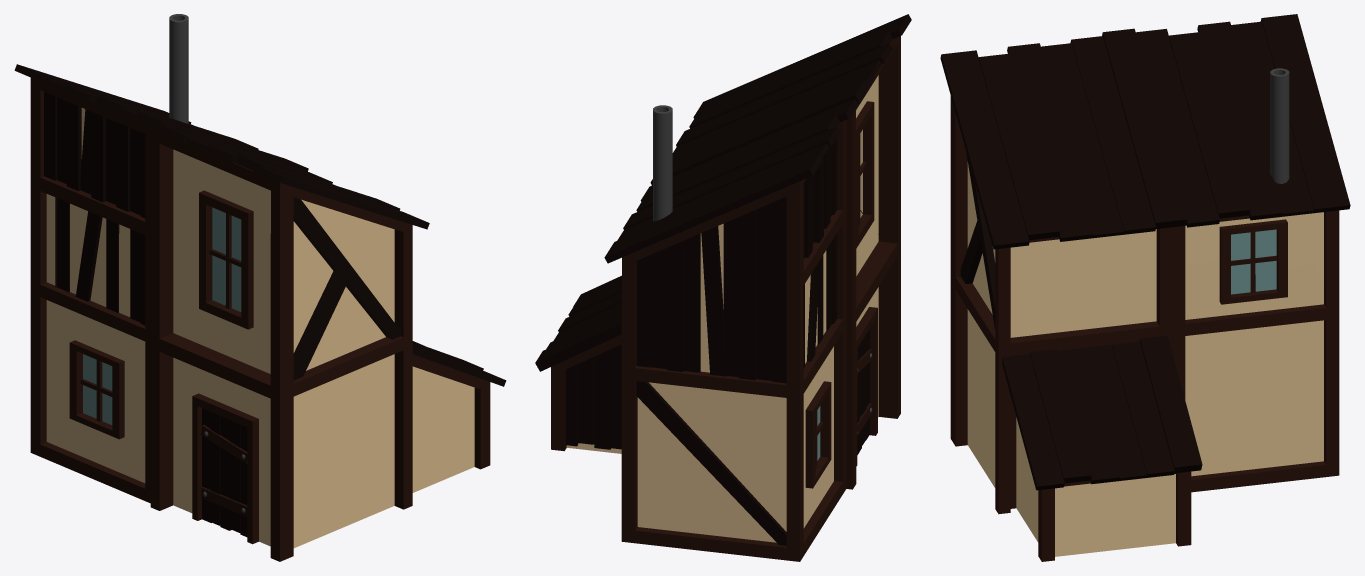
File: generic house 1.FBX
The picture shows the model from 3 angles, left to right: view 1: azimuth 30°, elevation 25°; view 2: azimuth 150°, elevation 25°; view 3: azimuth 270°, elevation 25°; orthographic projection. The views are drawn at different scales.
Parts seen in each view (by area): view 1: Box095; view 2: Box095; view 3: Box095.
Part boxes in pixels (box(x1,y1,x2,y2)): Box095: box(14, 14, 506, 561); Box095: box(535, 14, 911, 561); Box095: box(940, 14, 1350, 561).
Size of the model in its own units: 179 by 192 by 180.
